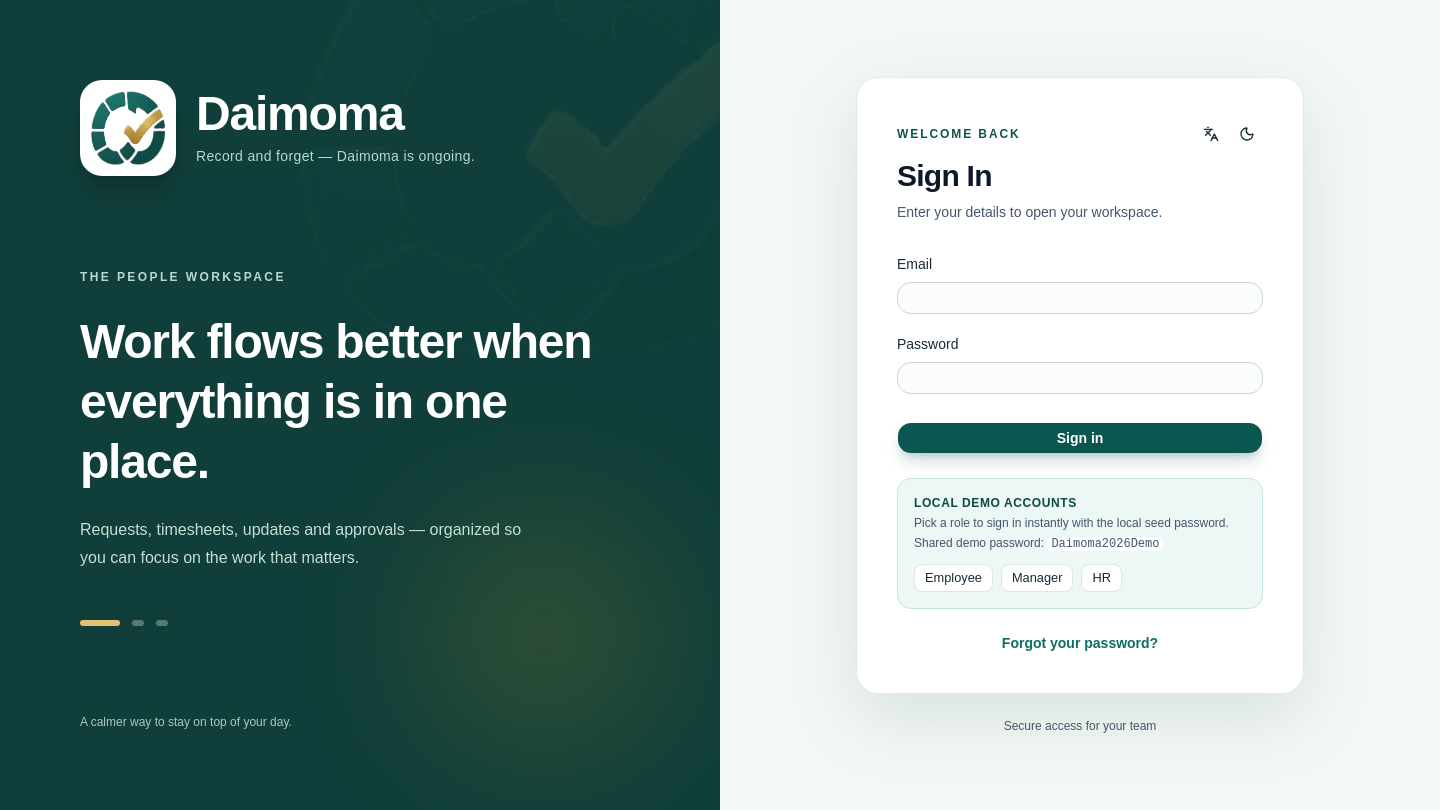
Test case: LoginPage › signs in directly with the seed password for a chosen demo role
The width and height of the screenshot is (1440, 810).
Click the button with aria-label "Use Manager demo account". click: point(1037, 578)
box: [1001,564,1073,592]
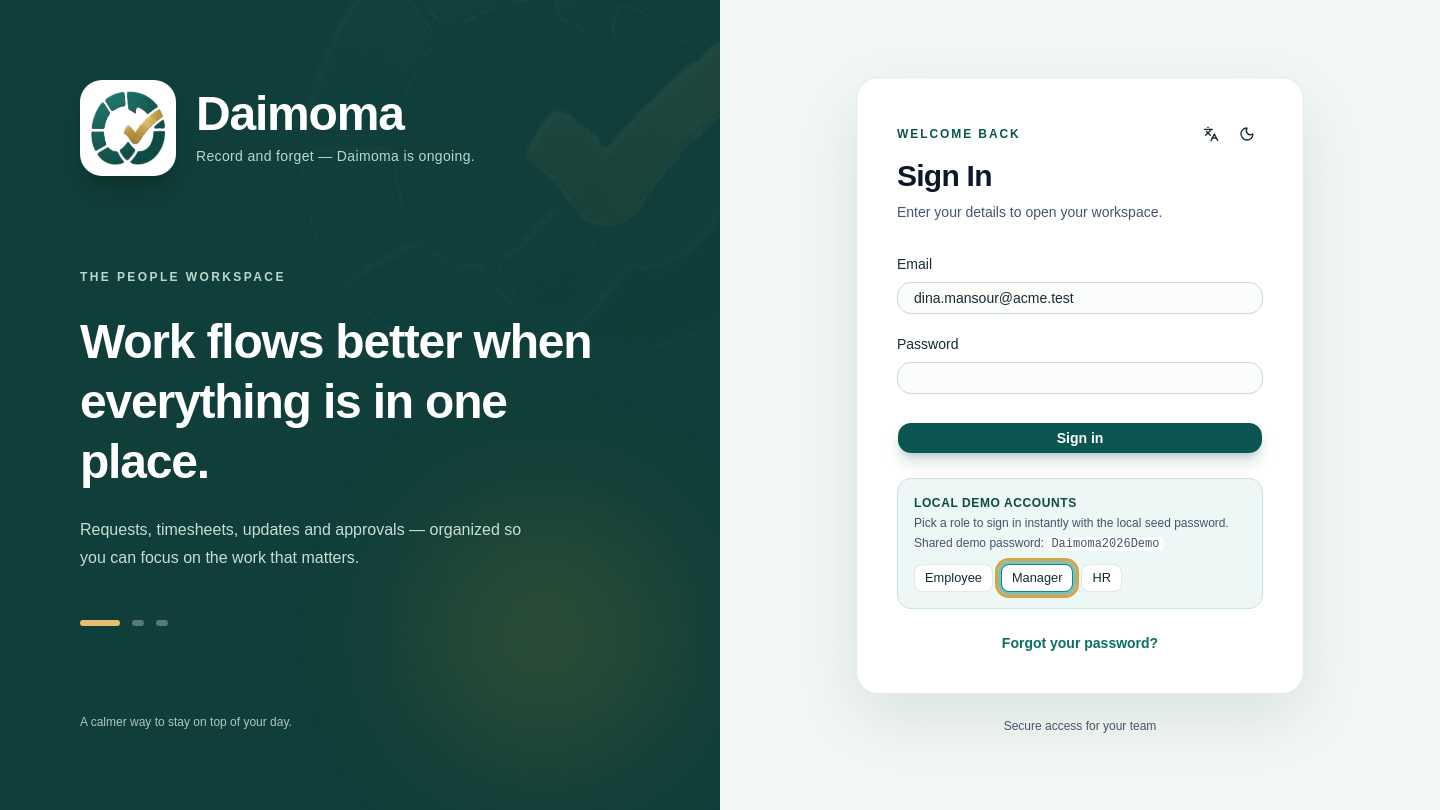
Check: the field labelled "Email" holds "dina.mansour@acme.test", box [897,282,1263,314]
